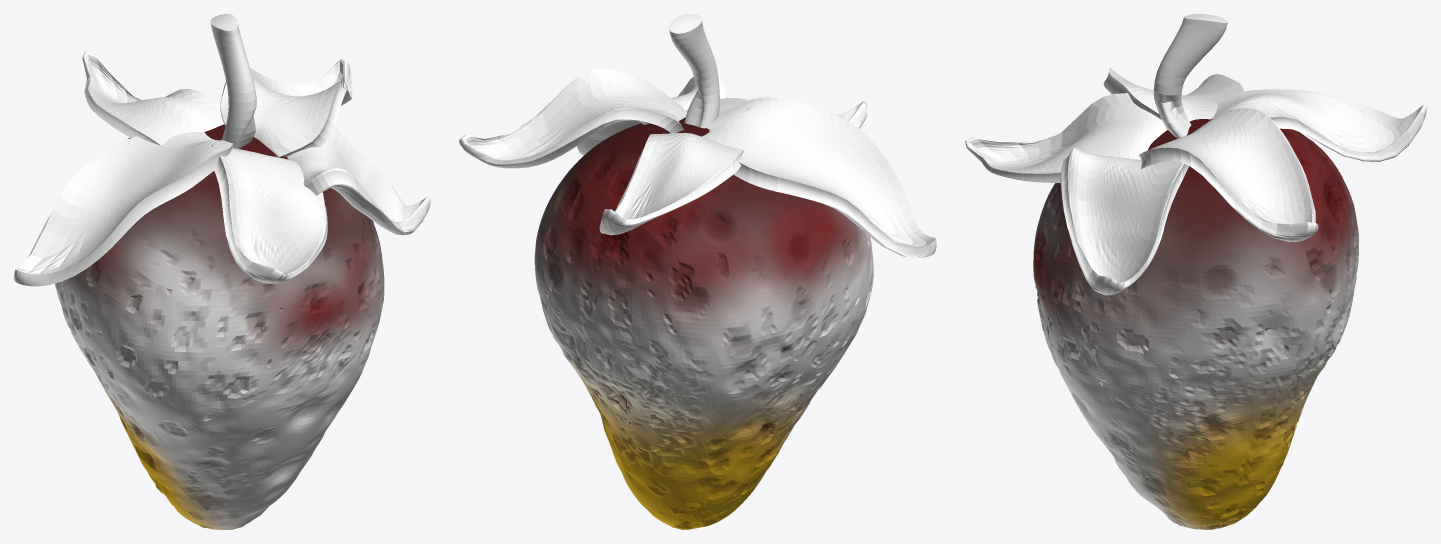
The model's file is 9f8bfc3d-ee0e-4147-b04c-1ed79e3d85cc_uploads_files_2825055_strawberry.glb.
3 renders of one model, left to right at view 1: azimuth 30°, elevation 25°; view 2: azimuth 150°, elevation 25°; view 3: azimuth 270°, elevation 25°, orthographic.
Visible parts, largest first — view 1: Sphere, Merged 5, Cylinder; view 2: Sphere, Merged 5, Cylinder; view 3: Sphere, Merged 5, Cylinder.
Boxes of the visible parts, left/top/right/bottom form: Sphere: left=54, top=124, right=384, bottom=529; Merged 5: left=14, top=51, right=430, bottom=286; Cylinder: left=210, top=14, right=256, bottom=148; Sphere: left=534, top=117, right=873, bottom=529; Merged 5: left=459, top=68, right=936, bottom=257; Cylinder: left=669, top=14, right=719, bottom=128; Sphere: left=1033, top=119, right=1358, bottom=529; Merged 5: left=965, top=68, right=1426, bottom=295; Cylinder: left=1153, top=14, right=1227, bottom=138.
Size of the model in its own units: 0.7757 by 0.9245 by 0.7542.
